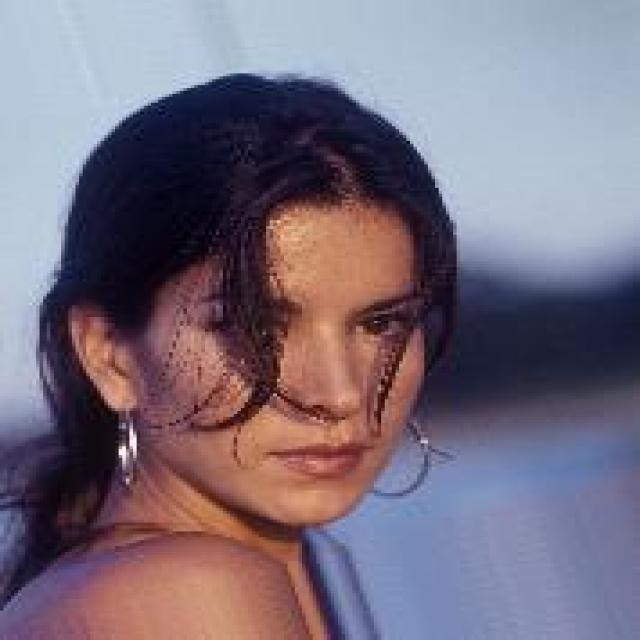nomask: (65, 85, 485, 534)
